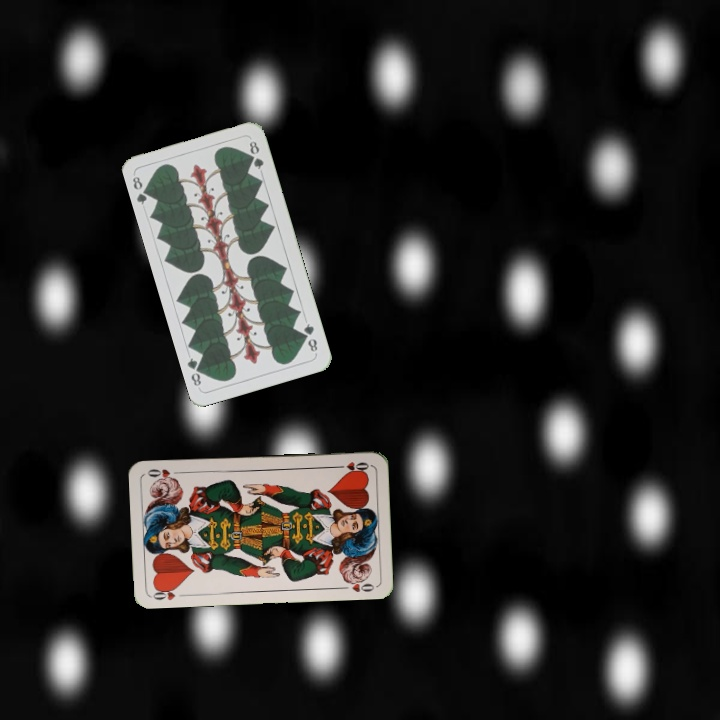G8: (128, 172, 153, 207), (299, 319, 320, 355)
HO: (149, 583, 189, 603), (331, 458, 371, 475)
